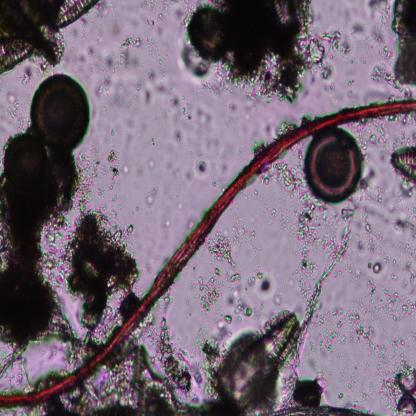Background material: (0, 125, 78, 364), (185, 0, 313, 101), (60, 207, 139, 328), (88, 30, 168, 108), (304, 133, 364, 208), (0, 0, 66, 60), (135, 381, 243, 416), (354, 269, 416, 328), (360, 167, 416, 232), (146, 319, 192, 397), (0, 385, 100, 416), (102, 349, 148, 416), (390, 0, 416, 88), (72, 148, 106, 212), (367, 228, 416, 272), (262, 164, 312, 202), (333, 351, 369, 400), (311, 306, 348, 353), (191, 268, 224, 318), (197, 334, 222, 398), (369, 336, 404, 380), (176, 41, 212, 80), (204, 230, 238, 268), (0, 352, 35, 388), (175, 348, 202, 386), (345, 308, 370, 348), (289, 379, 322, 407), (371, 68, 403, 93), (294, 204, 316, 240), (298, 258, 316, 301), (116, 289, 140, 320), (302, 36, 325, 68), (321, 29, 343, 59), (232, 220, 259, 244), (367, 0, 390, 27), (152, 291, 173, 319), (107, 145, 121, 186), (1, 93, 24, 117), (381, 380, 400, 403), (322, 233, 339, 257), (145, 37, 162, 60), (315, 200, 329, 226), (354, 129, 370, 151), (177, 168, 192, 191), (392, 133, 416, 147), (225, 102, 239, 126), (194, 104, 212, 122), (370, 132, 388, 150), (166, 94, 185, 111), (320, 60, 336, 80), (400, 177, 416, 197), (197, 80, 220, 93), (190, 140, 204, 161), (379, 46, 394, 65), (234, 296, 249, 314), (292, 143, 306, 162), (316, 364, 328, 386), (340, 41, 352, 63), (299, 236, 310, 259), (218, 322, 232, 340), (280, 213, 294, 231), (196, 160, 210, 178), (370, 119, 388, 133), (372, 28, 387, 44), (225, 270, 242, 284), (311, 231, 322, 252), (227, 283, 238, 304), (259, 280, 273, 296), (160, 0, 177, 13), (351, 22, 365, 37), (273, 287, 281, 312), (182, 104, 193, 122), (146, 187, 157, 205), (171, 6, 185, 20), (398, 360, 414, 372), (16, 116, 28, 132), (330, 210, 340, 229), (341, 206, 354, 220), (22, 67, 32, 84), (232, 201, 241, 219), (306, 353, 316, 369), (124, 223, 136, 236), (149, 0, 160, 14), (356, 238, 366, 253), (403, 86, 413, 101), (184, 218, 197, 229), (252, 245, 262, 259), (400, 115, 409, 129), (77, 31, 88, 42), (356, 118, 368, 128), (96, 187, 106, 199), (146, 136, 156, 147), (328, 350, 334, 368), (121, 163, 130, 175), (147, 18, 156, 30), (374, 382, 382, 395), (175, 130, 183, 143), (373, 262, 382, 273), (165, 194, 179, 201), (103, 103, 110, 117), (367, 408, 379, 416), (301, 86, 309, 98), (86, 58, 94, 70), (332, 270, 344, 278), (364, 36, 372, 48), (409, 112, 416, 125), (388, 114, 398, 123), (244, 192, 254, 201), (147, 160, 156, 170), (258, 300, 264, 315), (246, 306, 255, 316), (76, 54, 86, 63), (167, 166, 176, 176), (378, 153, 386, 164), (262, 206, 270, 216), (158, 13, 166, 23), (224, 315, 233, 323), (199, 324, 206, 334), (145, 205, 152, 215), (95, 37, 101, 48), (140, 0, 148, 8), (124, 102, 132, 110), (368, 326, 376, 334), (164, 219, 172, 227), (328, 82, 335, 91), (255, 273, 265, 279), (77, 65, 84, 73), (347, 88, 353, 97), (249, 274, 254, 284), (386, 400, 391, 410), (110, 127, 115, 137), (268, 218, 274, 226), (158, 59, 162, 71), (310, 77, 316, 85), (346, 80, 354, 86), (244, 279, 248, 291), (113, 194, 118, 203), (212, 166, 216, 177), (409, 334, 416, 340), (118, 204, 123, 212), (350, 277, 354, 286), (254, 189, 259, 196), (272, 208, 276, 216), (224, 164, 228, 172), (213, 318, 218, 324), (367, 262, 372, 268), (186, 298, 190, 305), (165, 51, 169, 58), (136, 205, 140, 212), (161, 73, 166, 78), (274, 232, 278, 238), (380, 397, 384, 403), (238, 317, 242, 323), (212, 181, 216, 187), (370, 381, 373, 389), (362, 58, 366, 64), (257, 266, 261, 271), (295, 269, 299, 274), (401, 341, 405, 346), (188, 312, 193, 316), (345, 264, 349, 269), (349, 269, 353, 274), (278, 200, 282, 204), (360, 401, 364, 405), (178, 205, 182, 209), (146, 17, 148, 25), (295, 251, 298, 256), (410, 349, 413, 354), (240, 152, 243, 157), (192, 266, 195, 271), (370, 390, 373, 394), (347, 255, 350, 259), (384, 414, 389, 416), (329, 372, 332, 375), (309, 371, 312, 374), (235, 253, 238, 256), (405, 338, 408, 341), (351, 302, 354, 305), (279, 208, 281, 212), (355, 263, 357, 267), (367, 354, 369, 357), (398, 332, 400, 335)
Cellulose filter fibre: (300, 220, 354, 343), (262, 404, 367, 416)
Cotton: (0, 83, 416, 412)
Diatom: (218, 312, 300, 404), (32, 74, 91, 152), (0, 131, 52, 190), (54, 0, 100, 30), (0, 38, 32, 77), (391, 146, 416, 182), (272, 0, 294, 32), (398, 370, 416, 394), (397, 394, 416, 414)
